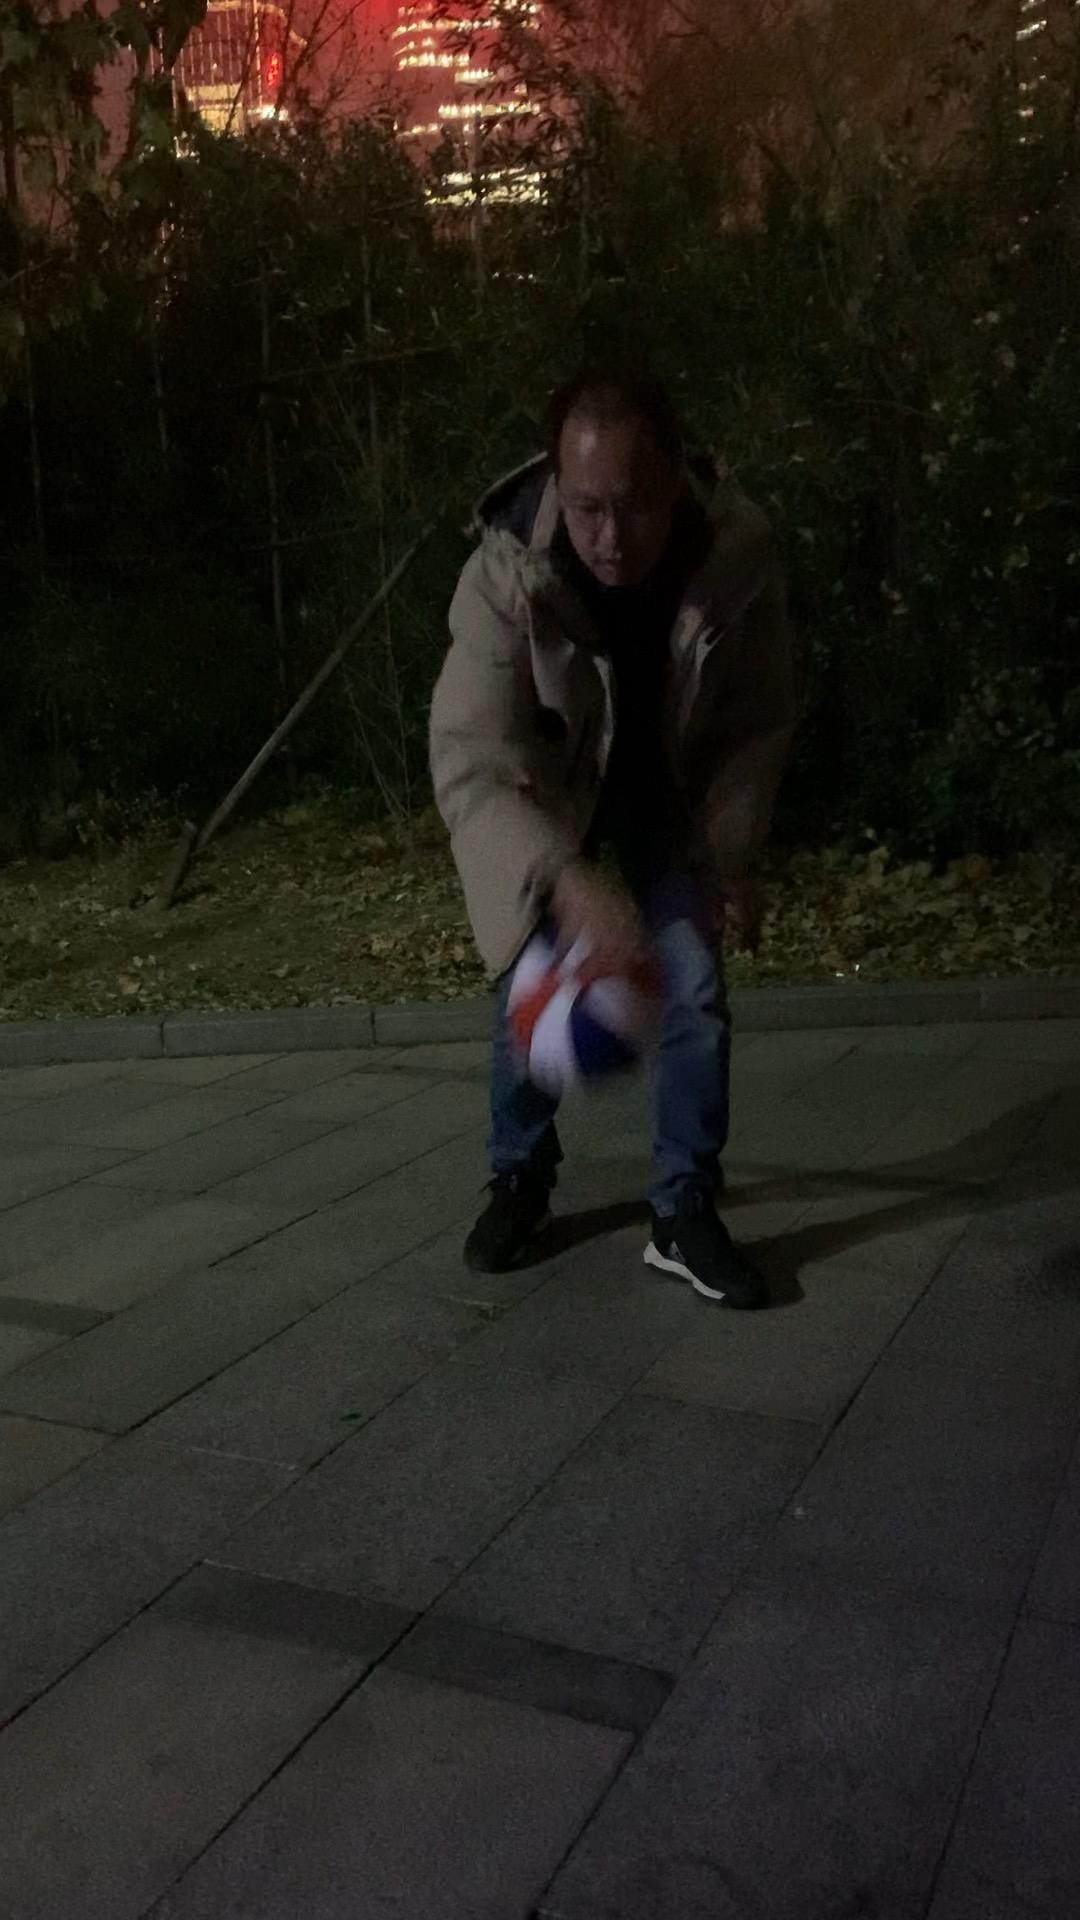ball: (498, 923, 659, 1088)
